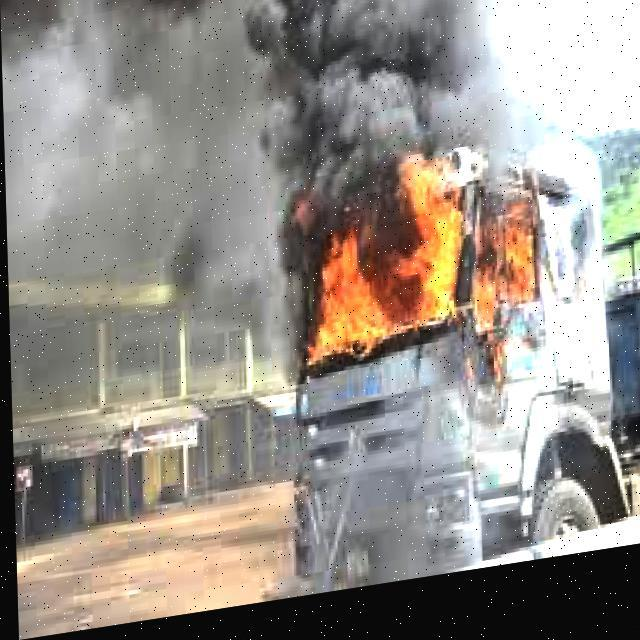Fire: (276, 155, 466, 375), (462, 191, 544, 338)
